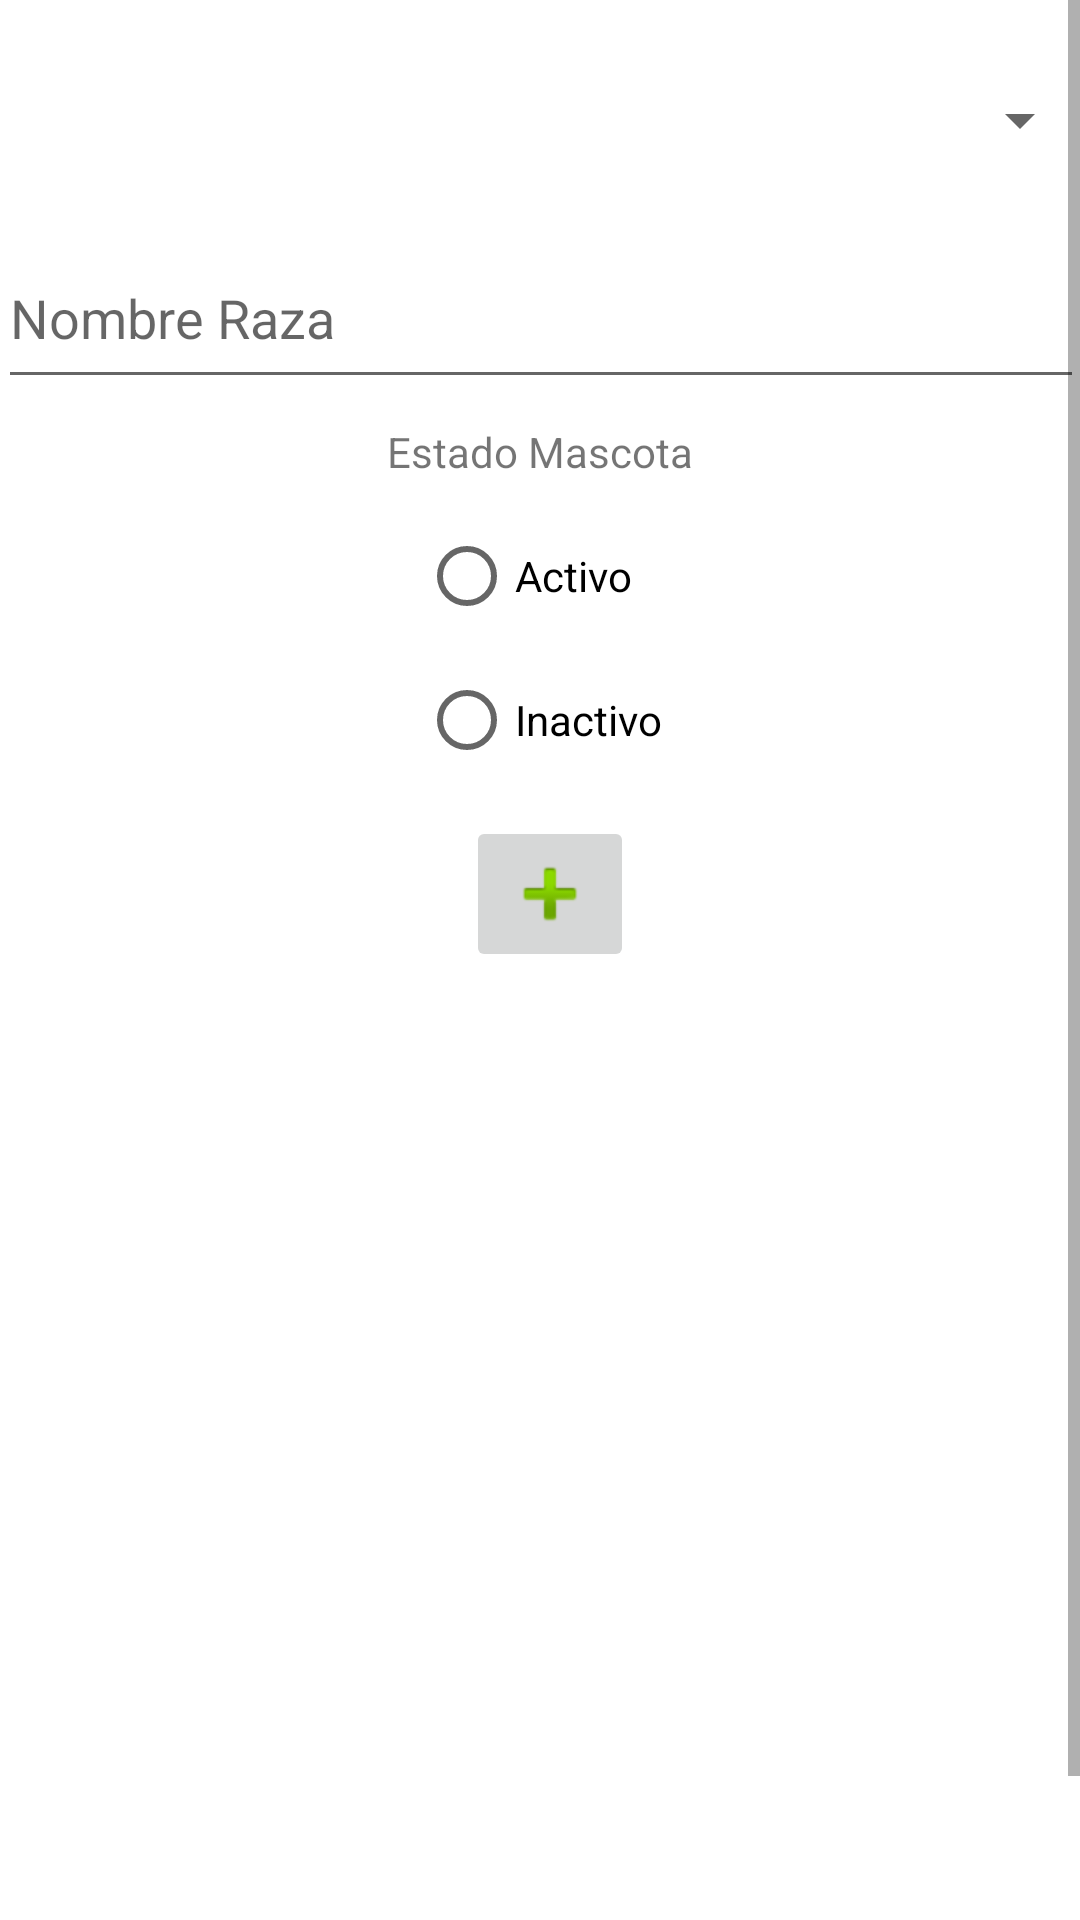

Icon click points for this 1080px×1920px phone screenshot, format (x=x, y=y):
add: (x=550, y=894)
